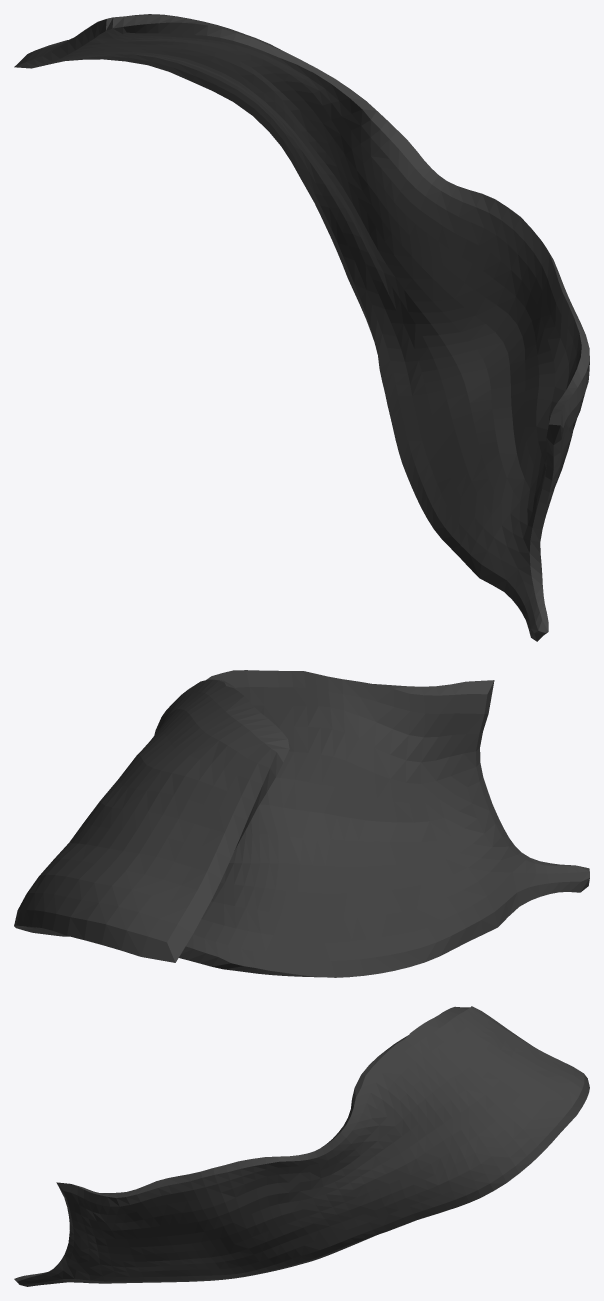
File: platysma.glb
3 renders of one model, top to bottom at view 1: azimuth 30°, elevation 25°; view 2: azimuth 150°, elevation 25°; view 3: azimuth 270°, elevation 25°, orthographic. The views are drawn at different scales.
Parts seen in each view (by area): view 1: platysma; view 2: platysma; view 3: platysma.
Boxes of the visible parts, x1,y1,x2,y2 form: platysma: (14, 14, 589, 641); platysma: (14, 670, 589, 977); platysma: (14, 1006, 589, 1286).
Bounding box in the file's own units: 0.8548 × 1.31 × 2.66.
1 material, 1 textured.
